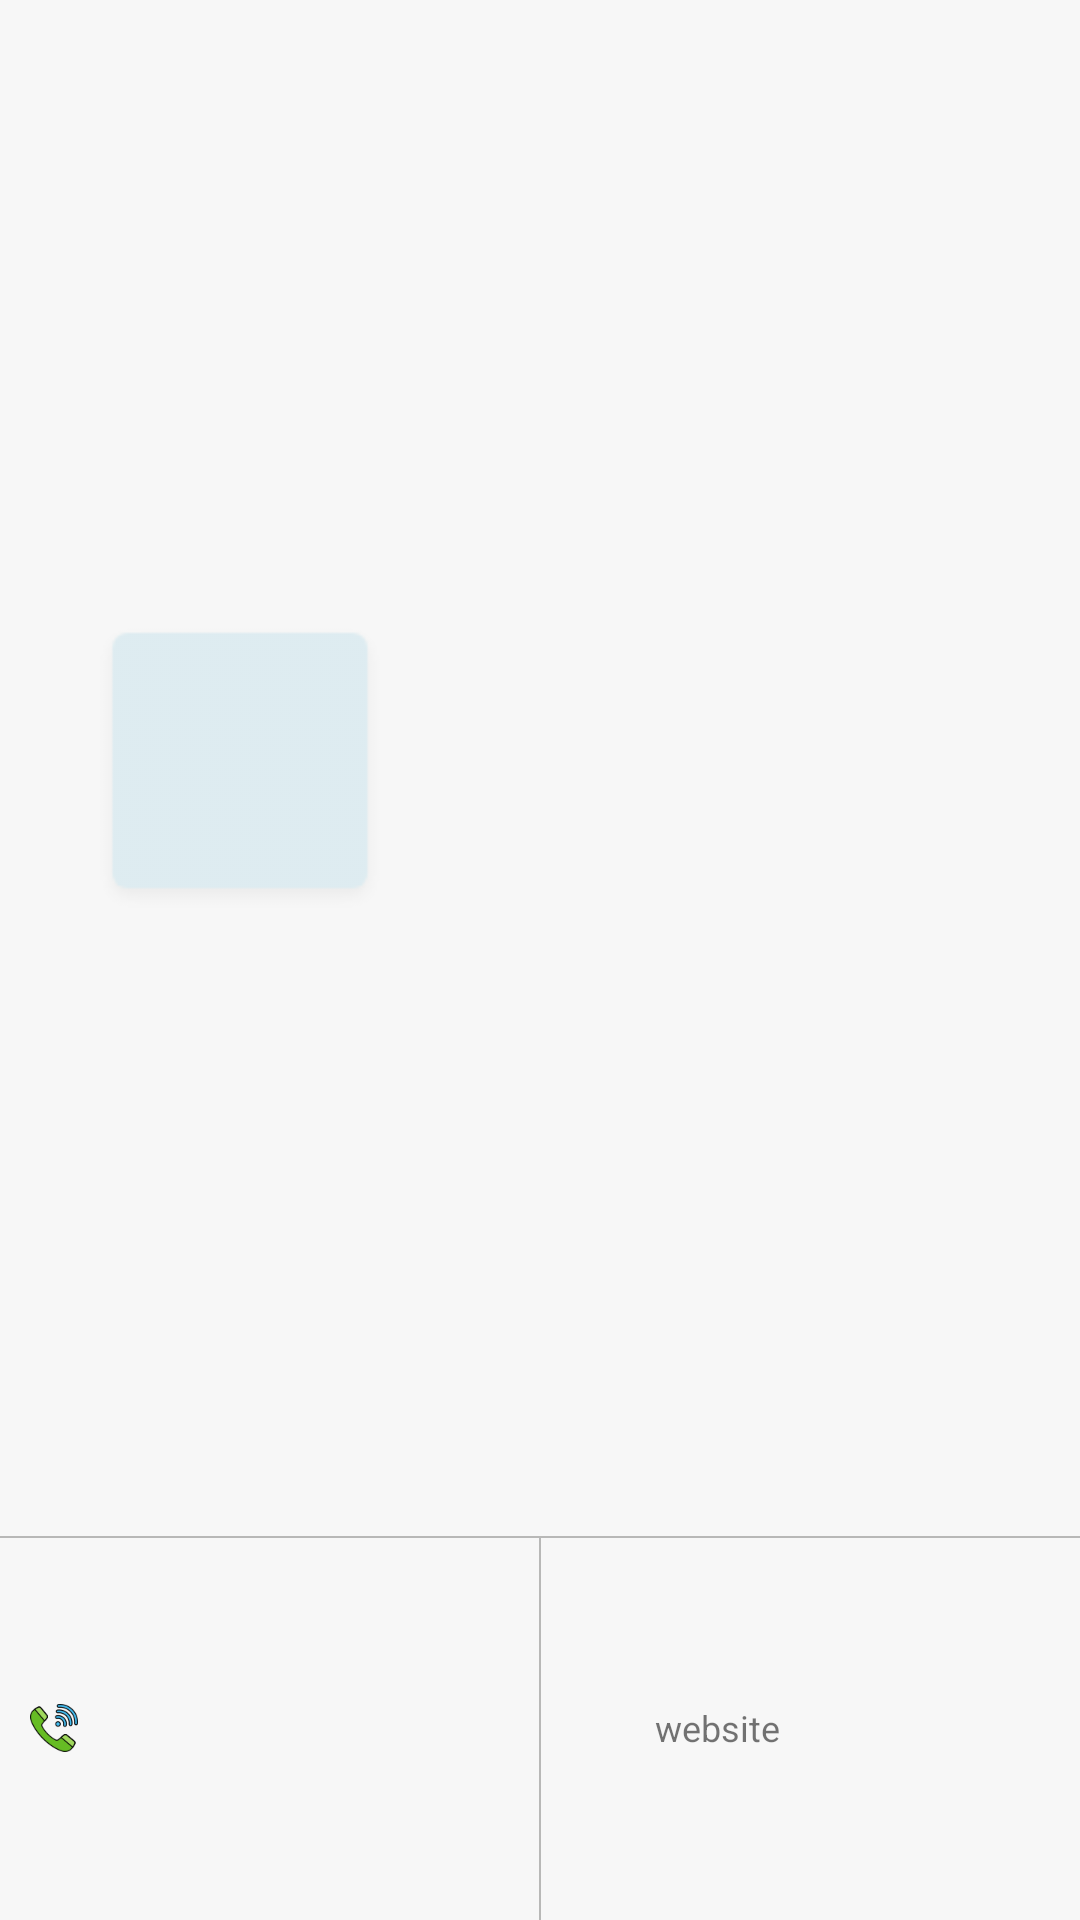

Screen size 1080x1920. Icon name, then its box in pixels as (x1, y1, x2, y2):
calling: (30, 1704, 78, 1752)
